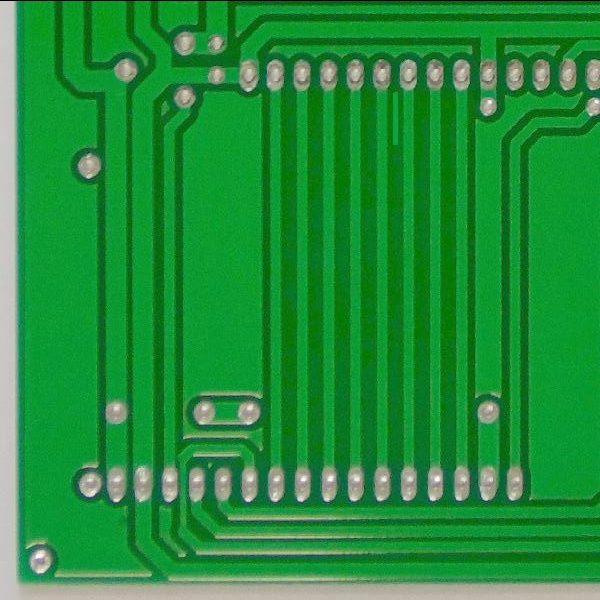spurious_copper: (387, 89, 406, 147)
